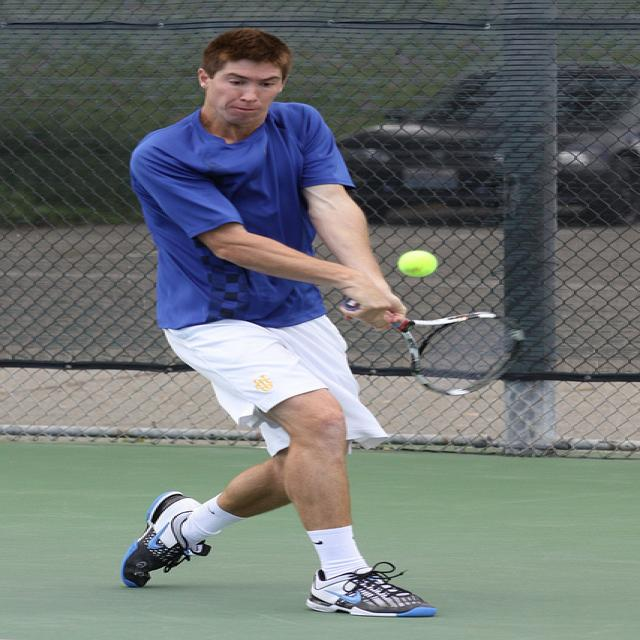Vehicle: (336, 64, 640, 229)
